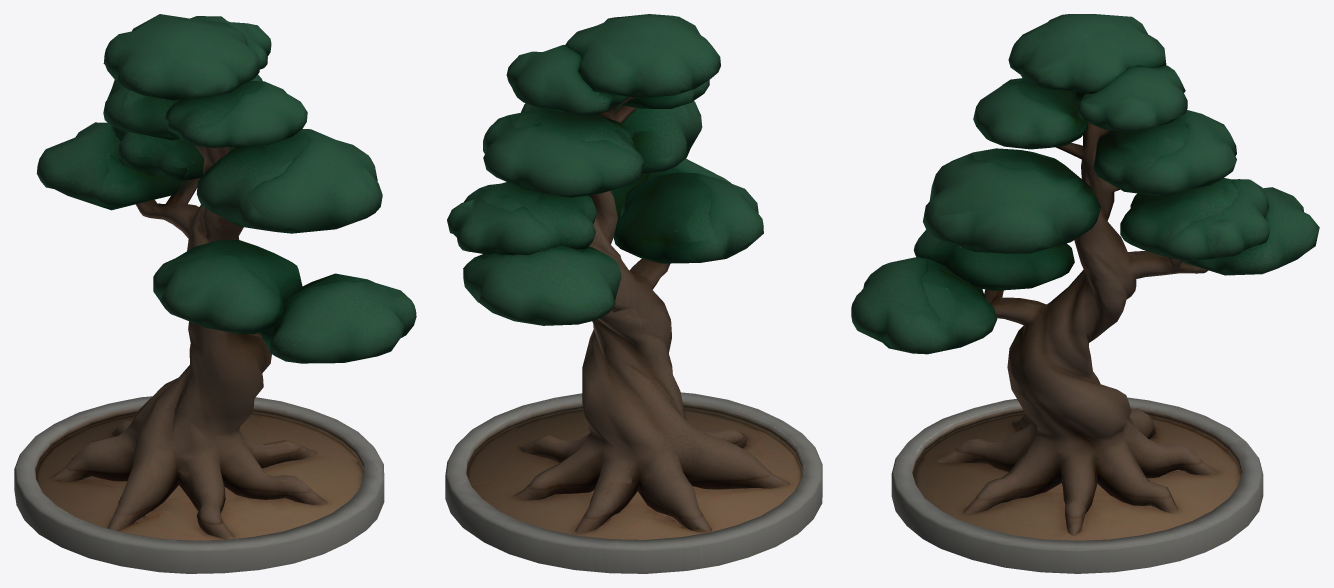
The model's file is tripo_convert_3220ff84-b9e4-4853-8f84-9670adcc4da0.fbx.
3 views of the same model, side by side, from view 1: azimuth 30°, elevation 25°; view 2: azimuth 150°, elevation 25°; view 3: azimuth 270°, elevation 25° (orthographic). The views are drawn at different scales.
Visible parts, largest first — view 1: tripo_node_3220ff84; view 2: tripo_node_3220ff84; view 3: tripo_node_3220ff84.
Part boxes in pixels (<box>): tripo_node_3220ff84: <box>14,14,416,573</box>; tripo_node_3220ff84: <box>445,14,822,573</box>; tripo_node_3220ff84: <box>851,14,1319,573</box>.
Size of the model in its own units: 0.7168 by 0.998 by 0.9082.
1 material, 1 textured.
